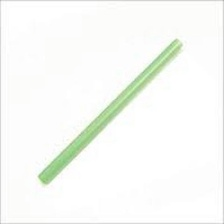drinking_straw: (32, 32, 194, 189)
